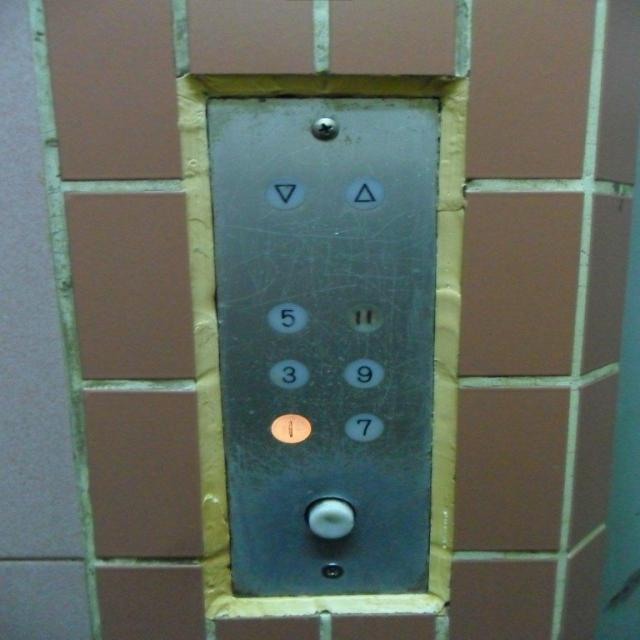1: (269, 413, 310, 443)
11: (342, 301, 384, 333)
3: (268, 358, 310, 390)
5: (266, 301, 308, 334)
7: (342, 412, 383, 442)
9: (341, 356, 383, 390)
down: (263, 175, 304, 209)
empty: (302, 496, 356, 540)
up: (342, 175, 386, 210)
